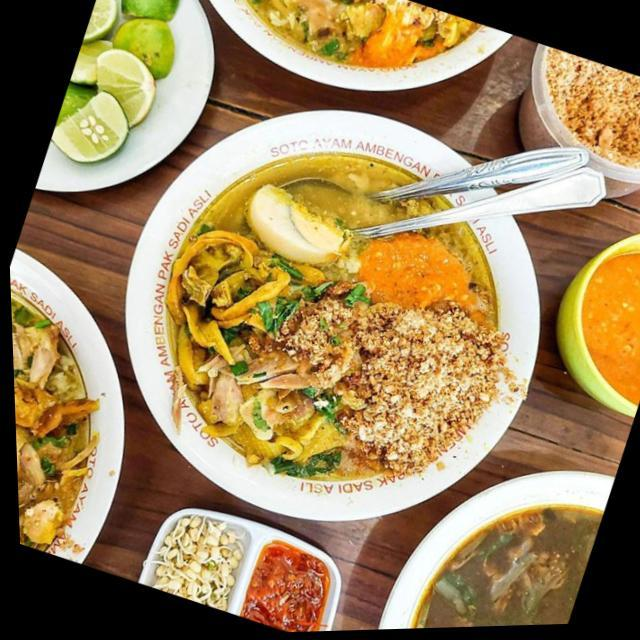Soto: (164, 155, 519, 486)
